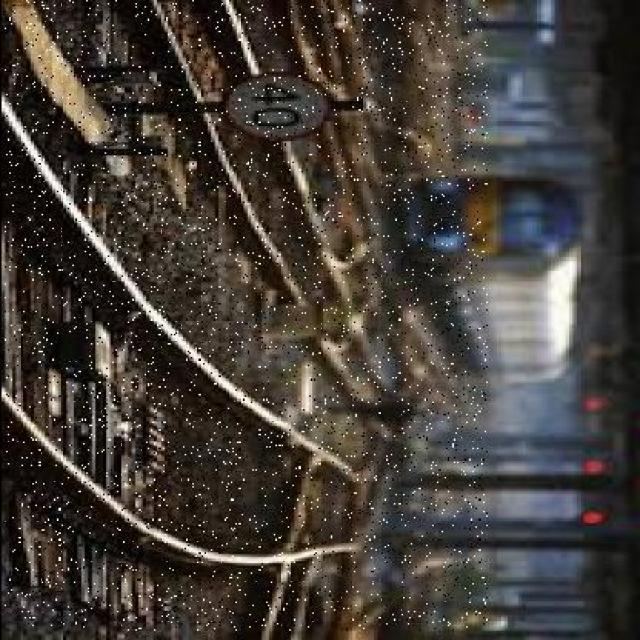rail: (3, 1, 486, 631)
